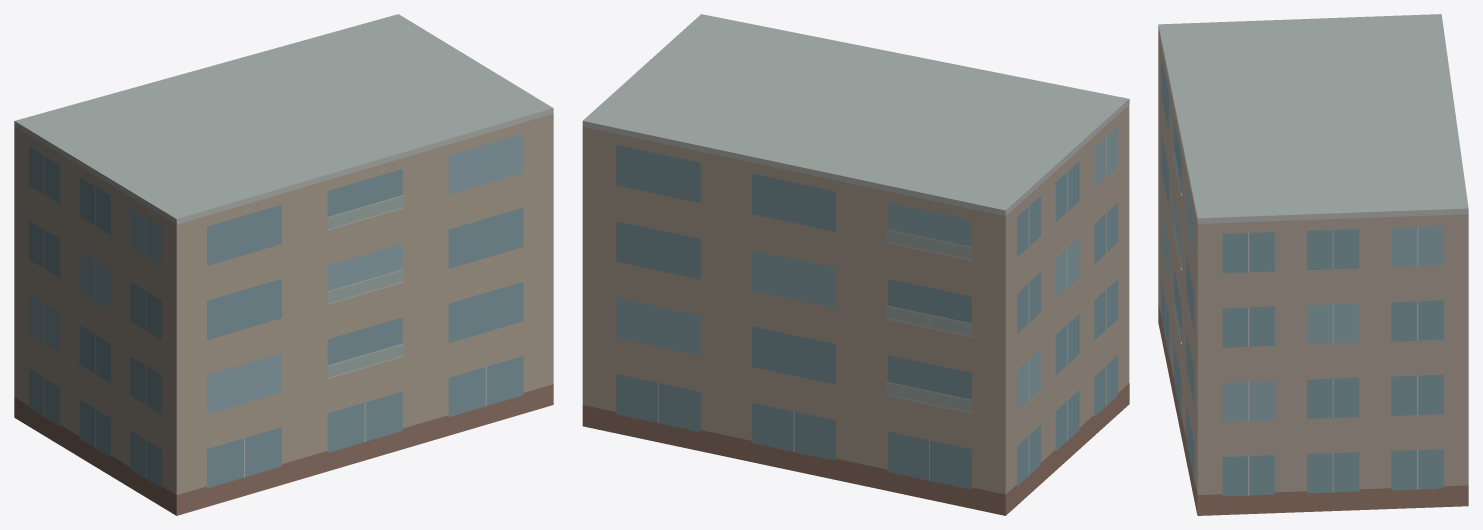
The model's file is survey-upis-33012912.glb.
The picture shows the model from 3 angles, left to right: view 1: azimuth 30°, elevation 25°; view 2: azimuth 150°, elevation 25°; view 3: azimuth 270°, elevation 25°; orthographic projection. The views are drawn at different scales.
Parts seen in each view (by area): view 1: survey-upis-33012912.tmp; view 2: survey-upis-33012912.tmp; view 3: survey-upis-33012912.tmp.
Boxes of the visible parts, box(x1,y1,x2,y2) form: survey-upis-33012912.tmp: box(14, 14, 553, 515); survey-upis-33012912.tmp: box(582, 14, 1129, 515); survey-upis-33012912.tmp: box(1158, 14, 1468, 515).
Bounding box in the file's own units: 19 × 12.9 × 12.2.
